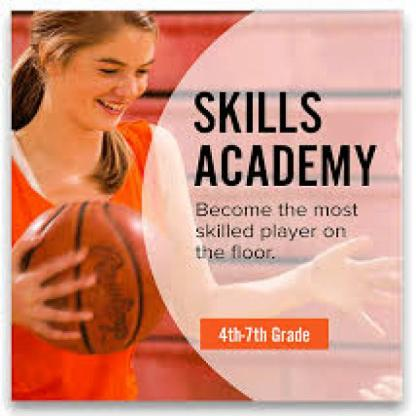basketball: (19, 200, 171, 354)
